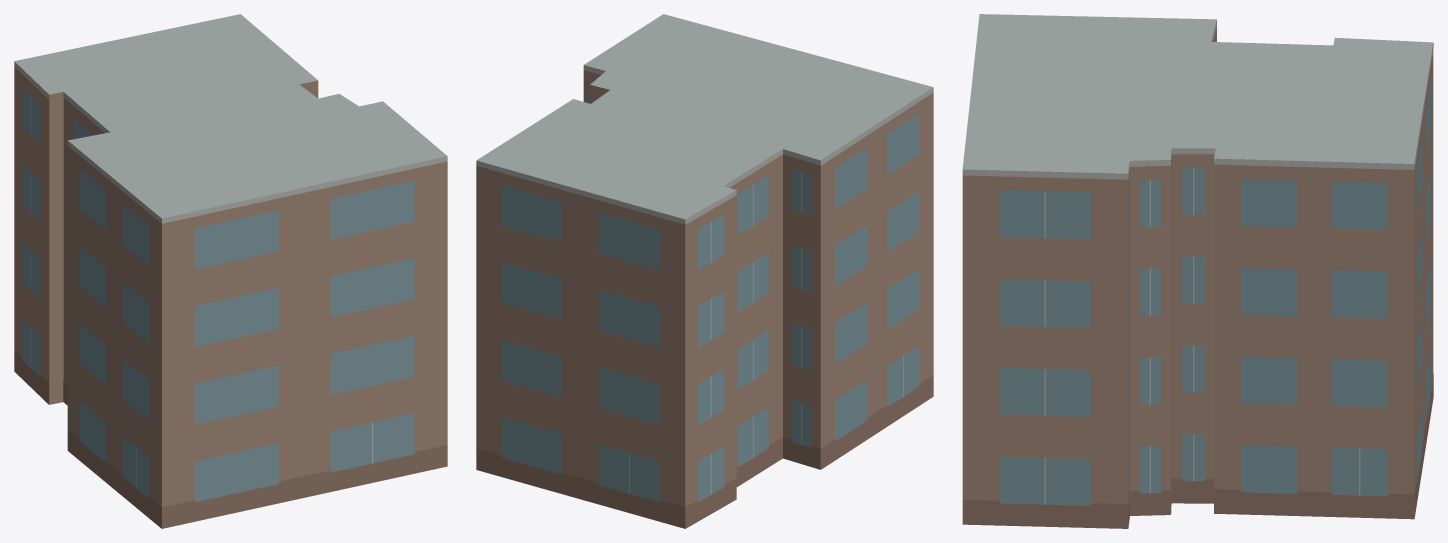
The model's file is survey-upis-32995820.glb.
3 views of the same model, side by side, from view 1: azimuth 30°, elevation 25°; view 2: azimuth 150°, elevation 25°; view 3: azimuth 270°, elevation 25° (orthographic). The views are drawn at different scales.
Parts seen in each view (by area): view 1: survey-upis-32995820.tmp; view 2: survey-upis-32995820.tmp; view 3: survey-upis-32995820.tmp.
Part boxes in pixels (x1,y1,x2,y2): survey-upis-32995820.tmp: (14,14,447,528); survey-upis-32995820.tmp: (476,14,933,528); survey-upis-32995820.tmp: (962,14,1433,528).
Bounding box in the file's own units: 13.97 × 14.47 × 17.4.
